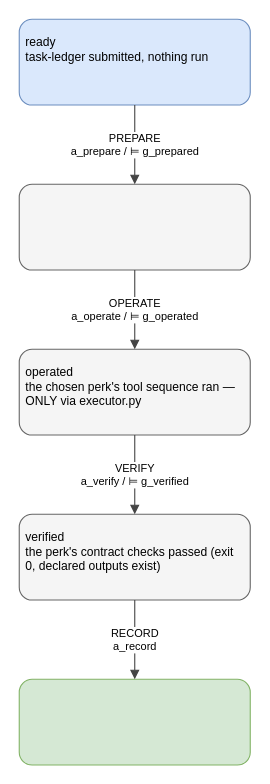
Some shapes in this 270 by 784 pixel diagram are drawn without their labels. The shapes that lost their labels are listed below. From the top down, each one's centre as x and y in pixels, then its label:
point 134,226: prepared inputs validated — required vars present, runtime + store ready
point 134,721: recorded run metadata + outputs recorded to the run-ledger
